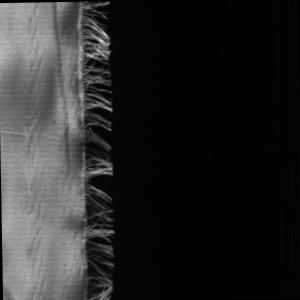Damage: (78, 1, 123, 300)
Wrinkle: (1, 2, 76, 300)
